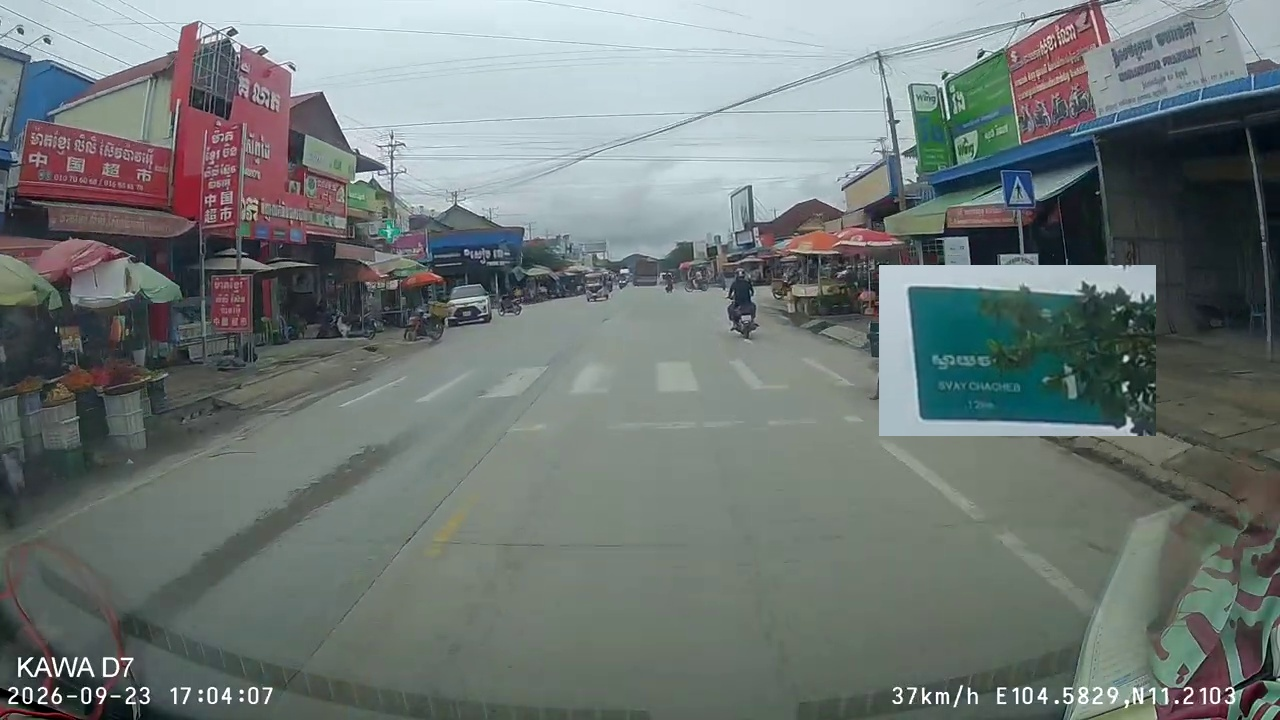direction_sign: (879, 265, 1156, 436)
